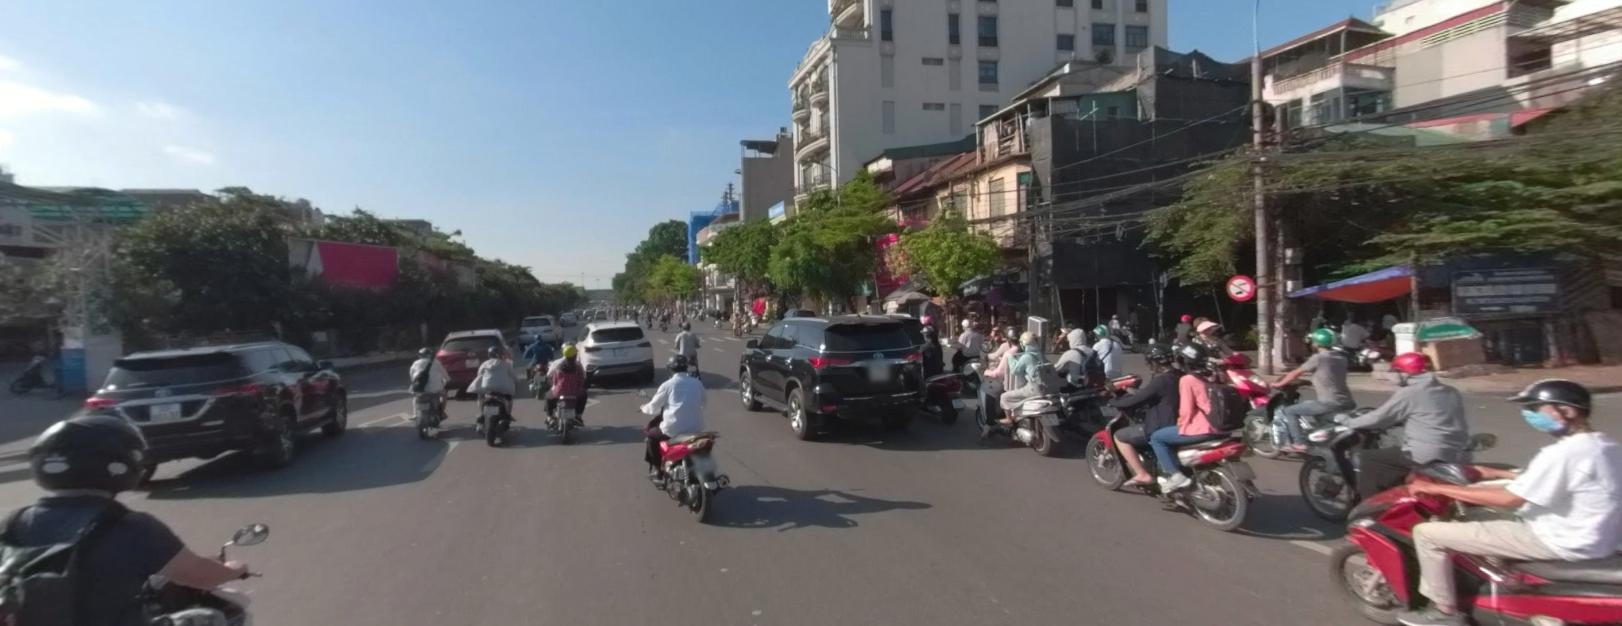Cam con lai: (1226, 273, 1255, 300), (1226, 274, 1254, 300), (1227, 274, 1253, 299)
